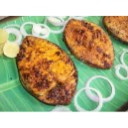seerfish: (18, 37, 76, 105), (65, 18, 114, 69), (103, 15, 128, 44)
